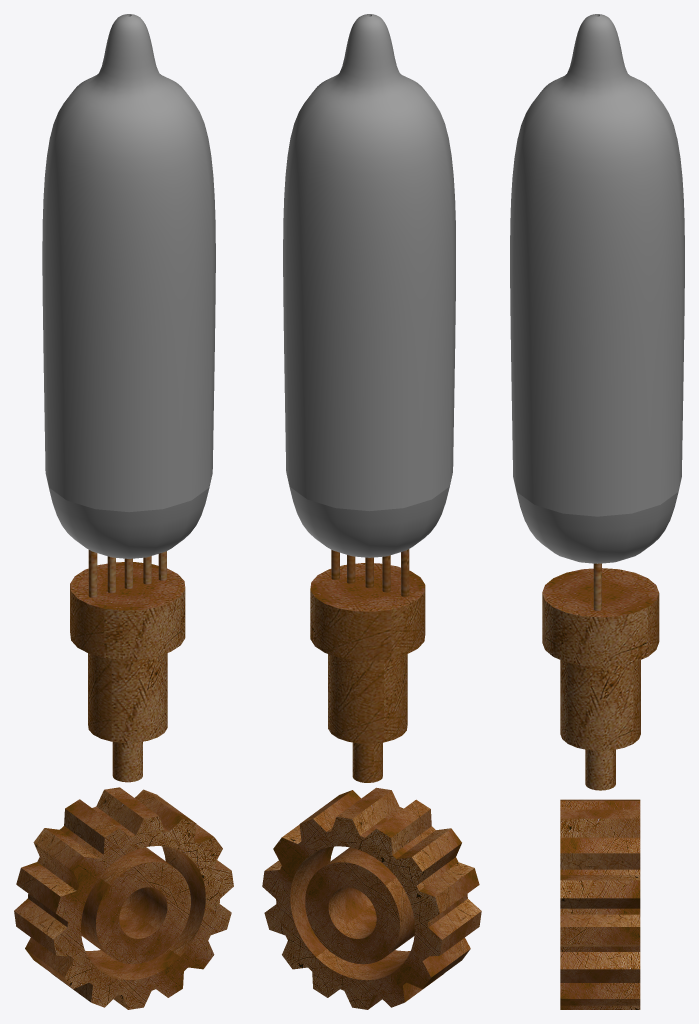
File: Exclamation.FBX
The picture shows the model from 3 angles, left to right: view 1: azimuth 30°, elevation 25°; view 2: azimuth 150°, elevation 25°; view 3: azimuth 270°, elevation 25°; orthographic projection.
Parts seen in each view (by area): view 1: Lamp010, Cogwheel_405, Tube_672, Tube_655, Tube_657; view 2: Lamp010, Cogwheel_405, Tube_672, Tube_655, Tube_657; view 3: Lamp010, Cogwheel_405, Tube_672, Tube_655, Tube_657, Tube_650.
Part boxes in pixels (x1,y1,x2,y2): Lamp010: (42, 14, 215, 558); Cogwheel_405: (14, 787, 233, 1009); Tube_672: (70, 562, 185, 659); Tube_655: (88, 653, 167, 742); Tube_657: (112, 741, 142, 782); Lamp010: (283, 14, 455, 557); Cogwheel_405: (262, 787, 481, 1009); Tube_672: (310, 563, 425, 660); Tube_655: (328, 654, 407, 743); Tube_657: (352, 742, 382, 782); Lamp010: (510, 14, 684, 563); Cogwheel_405: (560, 799, 640, 1009); Tube_672: (542, 568, 659, 666); Tube_655: (560, 660, 640, 750); Tube_657: (585, 749, 615, 790); Tube_650: (593, 563, 601, 610).
Bounding box in the file's own units: 19.1 × 98.98 × 15.91.
3 materials, 1 textured.
